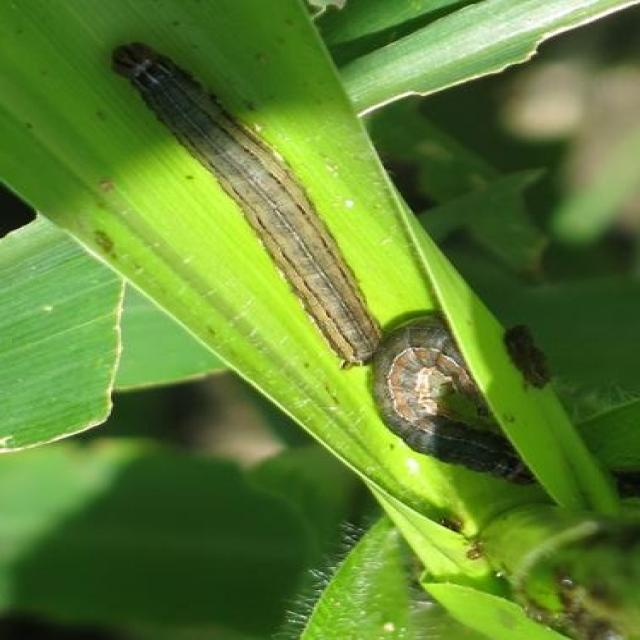army worm: (110, 43, 385, 374), (382, 310, 539, 498), (499, 322, 558, 400)
